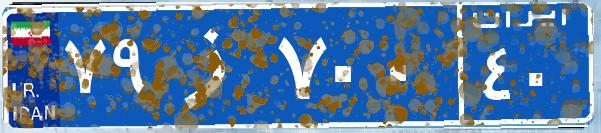0: (385, 28, 445, 110), (330, 28, 385, 110), (525, 38, 570, 115)
4: (475, 38, 525, 113)
7: (273, 28, 330, 110), (57, 26, 110, 107)
9: (110, 28, 158, 105)
ز: (158, 15, 273, 115)
